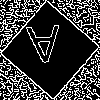A: (25, 25, 63, 73)
